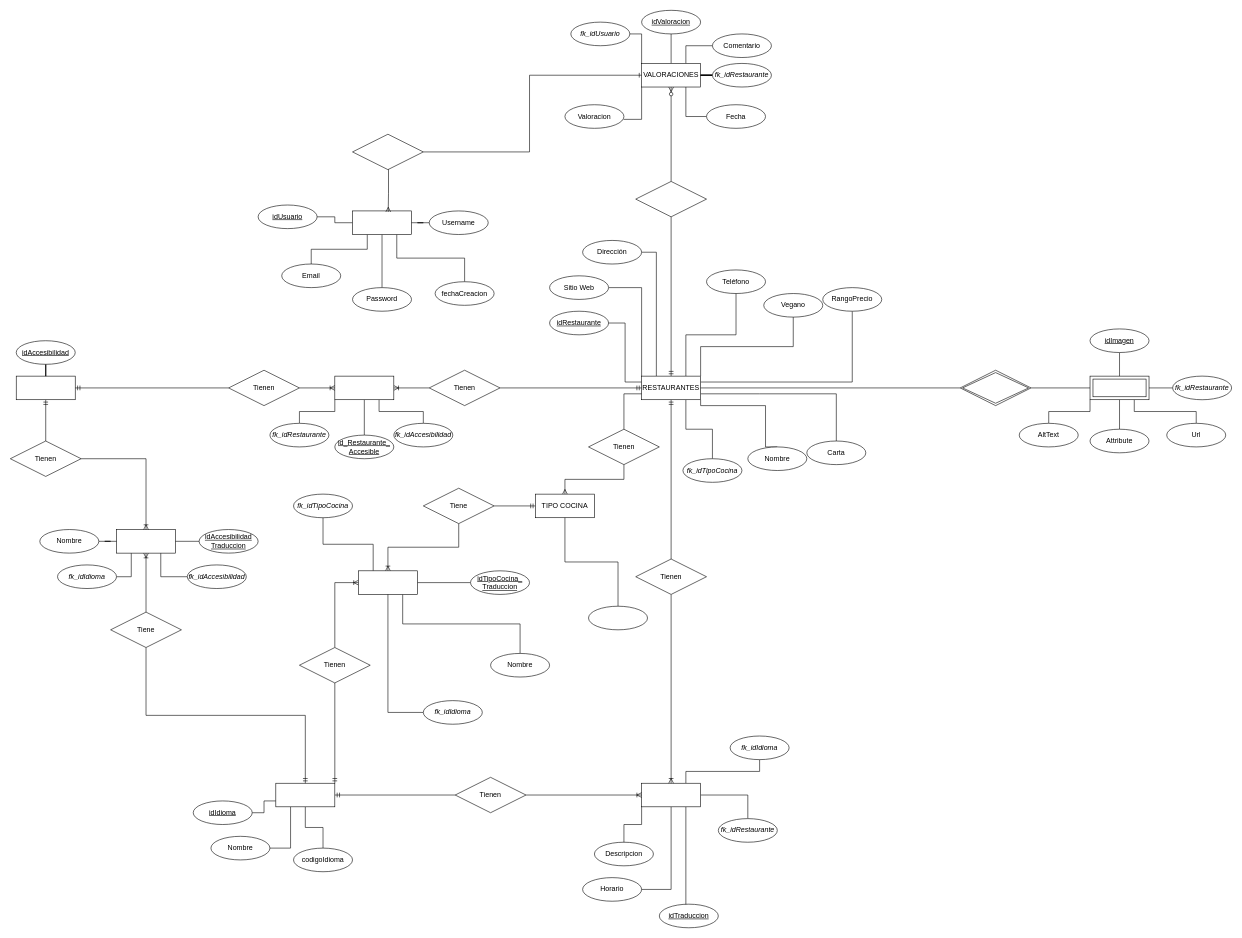
The diagram is 1242 pixels wide and 938 high, and some of its shapes have lost their labels. Each missing label, with the centre of its shape:
"ACCESIBILIDAD" goes at point 45,388.
"ACCESIBILIDAD_ TRADUCCIONES" goes at point 146,541.
"Hace" goes at point 387,152.
"IDIOMA" goes at point 305,795.
"idTipoCocina" goes at point 618,618.
"IMAGENES" goes at point 1119,388.
"Recibe" goes at point 671,199.
"RESTAURANTE_ TRADUCCIONES" goes at point 671,795.
"RESTAURANTES_ ACCESIBILIDAD" goes at point 364,388.
"TIPO COCINA_ TRADUCCION" goes at point 387,582.
"USUARIOS" goes at point 382,222.
